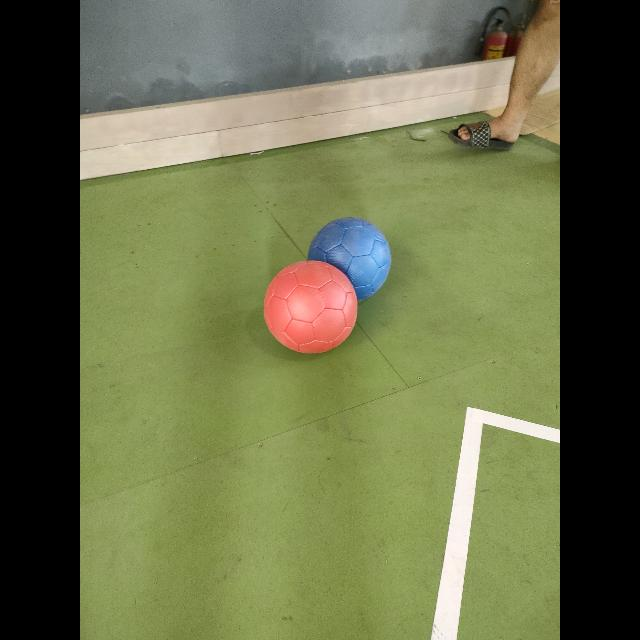B: (308, 218, 391, 299)
R: (264, 260, 358, 352)
